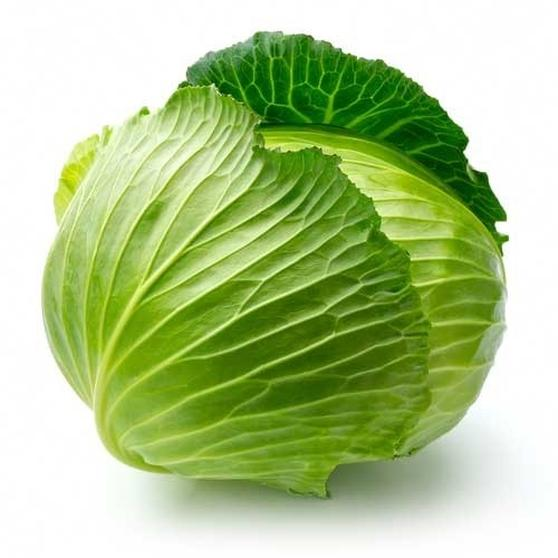cabbage: (51, 30, 512, 497)
